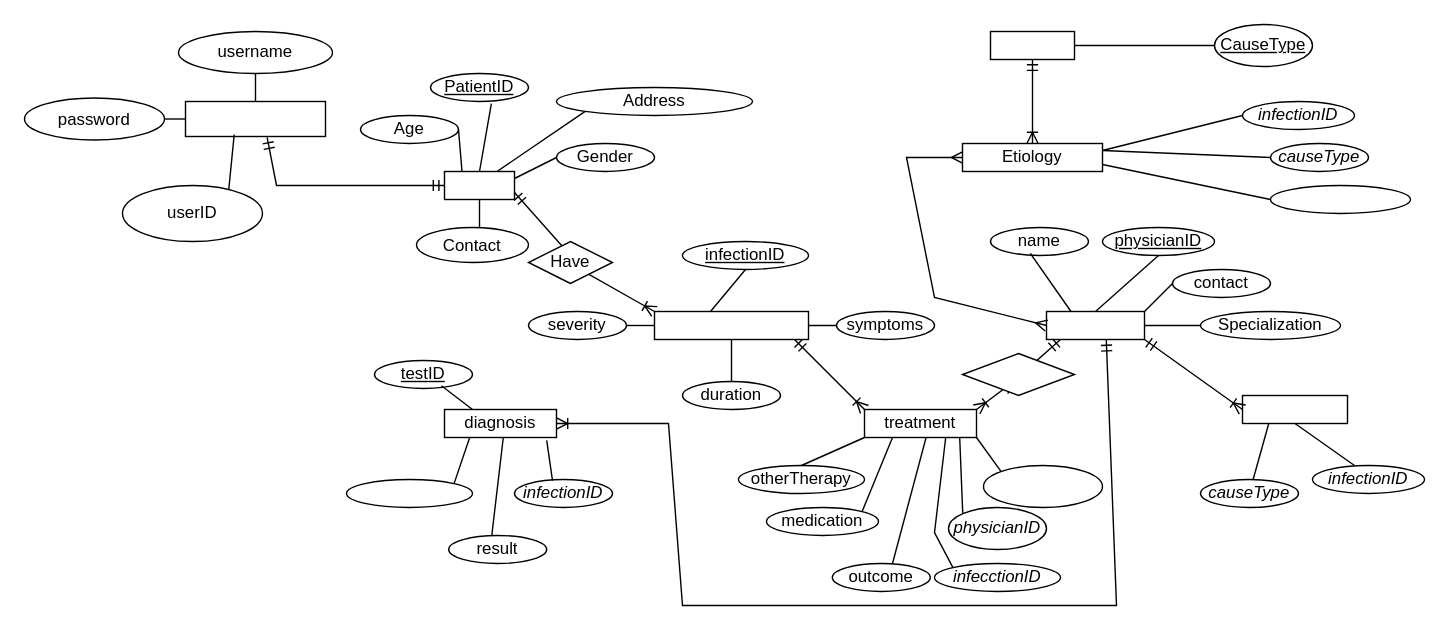
The diagram is 1449 pixels wide and 643 high, and some of its shapes have lost their labels. Here are the shapes that lost their labels. From the top down, the centre of each, then its label:
point 1031,44: Cause
point 255,118: Userlogin
point 478,185: Patients
point 1339,199: etiologyID
point 730,325: pinkeyeinfection
point 1094,325: physician
point 1017,374: Treats
point 1294,409: Assigned
point 408,492: testName
point 1042,485: treatmentID
